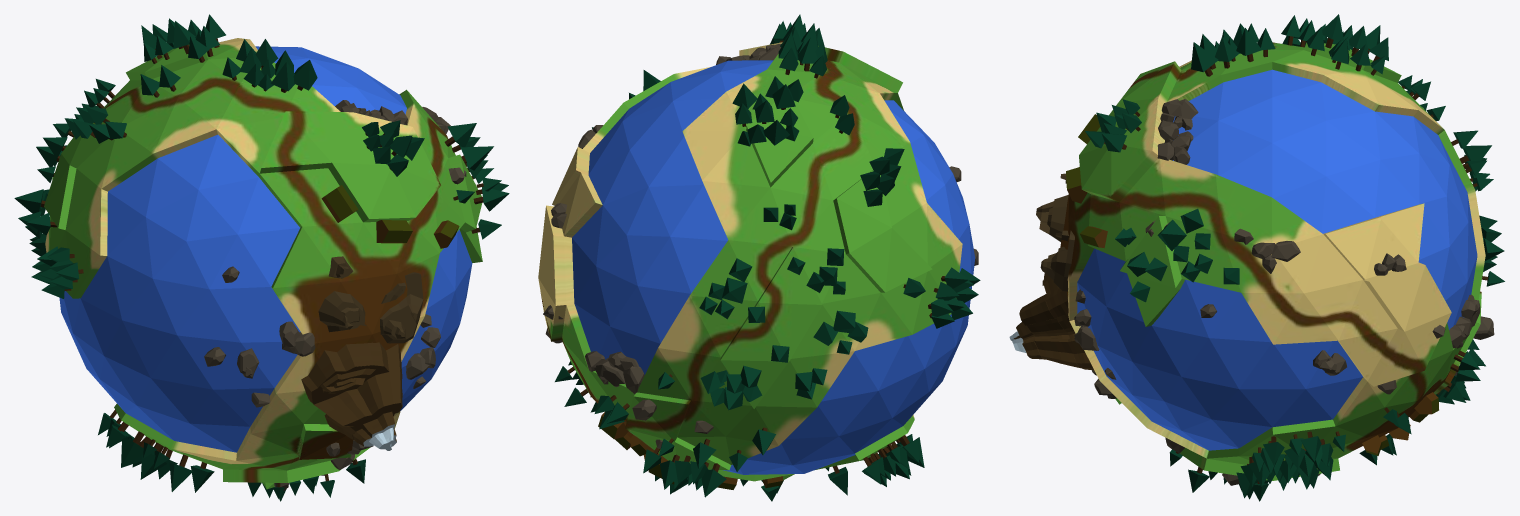
The model's file is portfolio-lq.glb.
3 views of the same model, side by side, from view 1: azimuth 30°, elevation 25°; view 2: azimuth 150°, elevation 25°; view 3: azimuth 270°, elevation 25° (orthographic). The views are drawn at different scales.
Visible parts, largest first — view 1: land, water, Plane.128, Plane.095, house.007, house.008; view 2: land, water; view 3: land, water, Plane.128, Plane.095, Plane.054.
Part boxes in pixels (<box>): land: <box>44,38,482,489</box>; water: <box>59,46,472,452</box>; Plane.128: <box>301,342,402,450</box>; Plane.095: <box>318,256,423,343</box>; house.007: <box>376,220,412,243</box>; house.008: <box>321,185,358,222</box>; land: <box>538,42,962,481</box>; water: <box>572,60,975,474</box>; land: <box>1060,42,1485,480</box>; water: <box>1077,69,1477,450</box>; Plane.128: <box>1009,252,1093,369</box>; Plane.095: <box>1036,173,1074,291</box>; Plane.054: <box>1191,42,1218,76</box>.
Bounding box in the file's own units: 22.89 × 24.78 × 24.4.
Materials: 10 (1 with a texture image).
